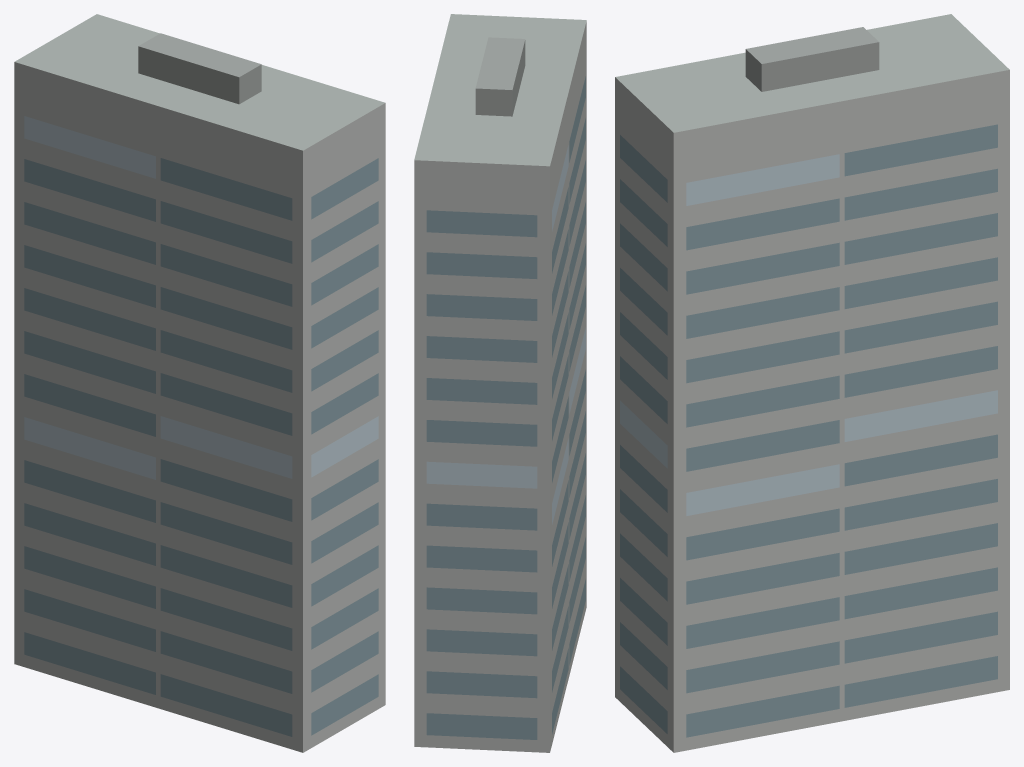
The model's file is fallback-olympic-athletes-village-314.glb.
3 views of the same model, side by side, from view 1: azimuth 30°, elevation 25°; view 2: azimuth 150°, elevation 25°; view 3: azimuth 270°, elevation 25° (orthographic). The views are drawn at different scales.
Parts seen in each view (by area): view 1: fallback-olympic-athletes-village-314; view 2: fallback-olympic-athletes-village-314; view 3: fallback-olympic-athletes-village-314.
Part boxes in pixels (x1=…): fallback-olympic-athletes-village-314: x1=14, y1=14, x2=385, y2=752; fallback-olympic-athletes-village-314: x1=414, y1=14, x2=586, y2=752; fallback-olympic-athletes-village-314: x1=615, y1=14, x2=1009, y2=752.
Bounding box in the file's own units: 17.55 × 44.62 × 24.63.
